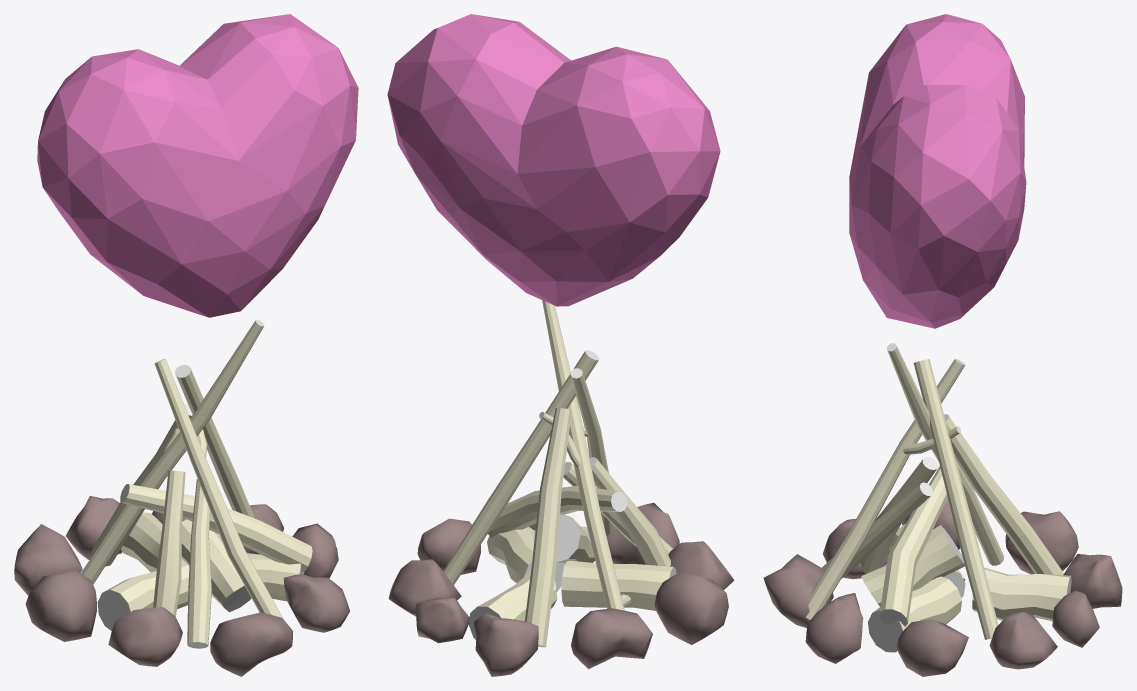
The model's file is fire-lights.gltf.
3 views of the same model, side by side, from view 1: azimuth 30°, elevation 25°; view 2: azimuth 150°, elevation 25°; view 3: azimuth 270°, elevation 25° (orthographic).
Visible parts, largest first — view 1: Love, stick9-bark 2 replacement, stick7-bark 2 replacement, rock3, rock8, stick13-bark 2 replacement, rock1, stick11-bark 2 replacement, stick14-bark 2 replacement, rock6, rock7, stick2-bark 2 replacement (+9 smaller); view 2: Love, stick1-bark 2 replacement, stick7-bark 2 replacement, stick2-bark 2 replacement, rock3, stick3-bark 2 replacement, rock7, rock2, rock9, stick13-bark 2 replacement, stick14-bark 2 replacement, rock5 (+9 smaller); view 3: Love, stick2-bark 2 replacement, stick9-bark 2 replacement, stick1-bark 2 replacement, stick13-bark 2 replacement, stick4-bark 2 replacement, rock4, rock6, rock9, stick7-bark 2 replacement, rock8, rock2 (+8 smaller).
Part boxes in pixels (x1,y1,x2,y2): Love: [37, 14, 358, 317]; stick9-bark 2 replacement: [154, 358, 283, 619]; stick7-bark 2 replacement: [81, 320, 263, 584]; rock3: [25, 570, 96, 641]; rock8: [210, 612, 292, 676]; stick13-bark 2 replacement: [122, 484, 312, 573]; rock1: [108, 607, 182, 666]; stick11-bark 2 replacement: [187, 479, 211, 644]; stick14-bark 2 replacement: [153, 470, 185, 616]; rock6: [283, 574, 349, 632]; rock7: [14, 524, 82, 595]; stick2-bark 2 replacement: [176, 368, 254, 518]; Love: [387, 14, 720, 306]; stick1-bark 2 replacement: [524, 408, 571, 646]; stick7-bark 2 replacement: [542, 300, 624, 610]; stick2-bark 2 replacement: [443, 351, 598, 584]; rock3: [654, 573, 728, 644]; stick3-bark 2 replacement: [561, 560, 672, 610]; rock7: [571, 608, 652, 669]; rock2: [473, 613, 538, 676]; rock9: [388, 559, 461, 616]; stick13-bark 2 replacement: [488, 485, 619, 537]; stick14-bark 2 replacement: [591, 459, 670, 566]; rock5: [416, 597, 469, 643]; Love: [849, 14, 1026, 328]; stick2-bark 2 replacement: [913, 359, 998, 639]; stick9-bark 2 replacement: [806, 359, 964, 619]; stick1-bark 2 replacement: [946, 416, 1063, 575]; stick13-bark 2 replacement: [880, 466, 947, 622]; stick4-bark 2 replacement: [972, 567, 1070, 621]; rock4: [896, 619, 968, 676]; rock6: [805, 593, 863, 663]; rock9: [989, 612, 1057, 669]; stick7-bark 2 replacement: [887, 346, 1004, 565]; rock8: [763, 554, 833, 627]; rock2: [1063, 554, 1122, 608].
Size of the model in its own units: 8.36 by 14.52 by 8.22.
